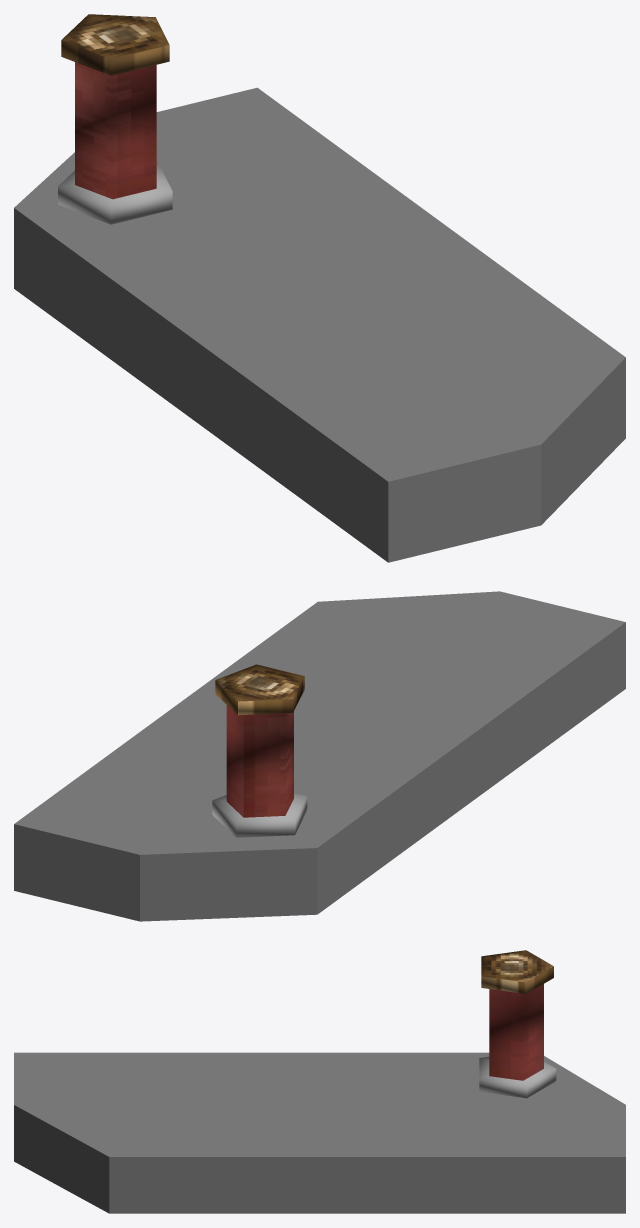
The model's file is ammos.glb.
The picture shows the model from 3 angles, top to bottom: view 1: azimuth 30°, elevation 25°; view 2: azimuth 150°, elevation 25°; view 3: azimuth 270°, elevation 25°; orthographic projection. The views are drawn at different scales.
Parts seen in each view (by area): view 1: Cube, Cylinder; view 2: Cube, Cylinder; view 3: Cube, Cylinder.
Part boxes in pixels (x1=…): Cube: x1=14, y1=87, x2=625, y2=562; Cylinder: x1=58, y1=14, x2=172, y2=224; Cube: x1=14, y1=591, x2=625, y2=921; Cylinder: x1=212, y1=664, x2=307, y2=837; Cube: x1=14, y1=1052, x2=625, y2=1213; Cylinder: x1=479, y1=950, x2=556, y2=1098.
Size of the model in its own units: 3.51 by 2.7 by 8.68.
Materials: 2 (1 with a texture image).
